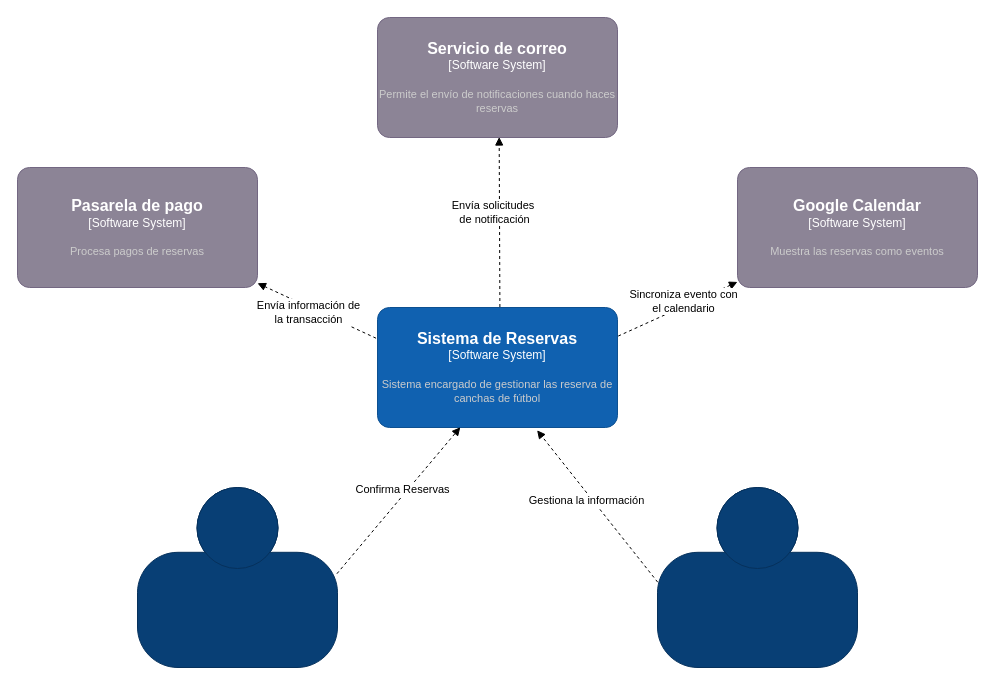
Some shapes in this 995 by 685 pixel diagram are drawn without their labels. The box of each missing label's shape, as (x1, y1, x2, y2) in pixels:
Administrador [Persona] Gestiona los usuarios y las canchas deportivas: (656, 486, 858, 668)
Usuario [Persona] Realiza la reserva: (136, 486, 338, 668)
